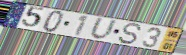0: (41, 10, 65, 34)
1: (73, 15, 90, 37)
3: (141, 27, 162, 48)
5: (20, 6, 47, 30)
S: (117, 22, 143, 46)
U: (89, 16, 119, 41)
